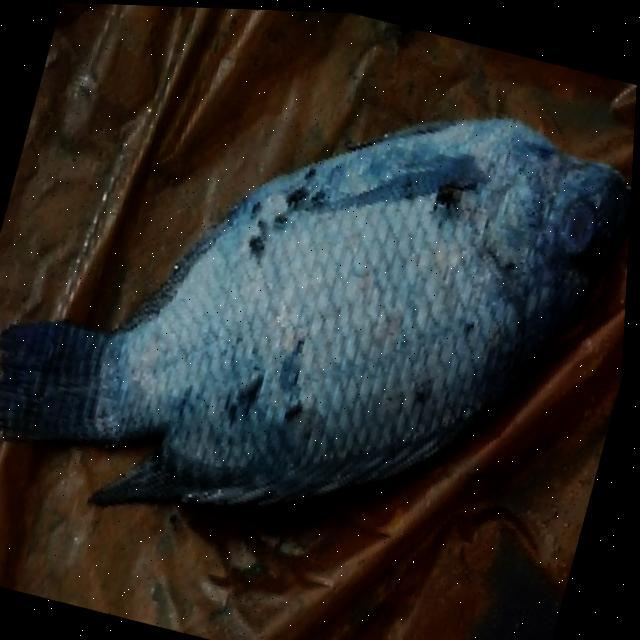Non-Fresh: (181, 60, 638, 531)
